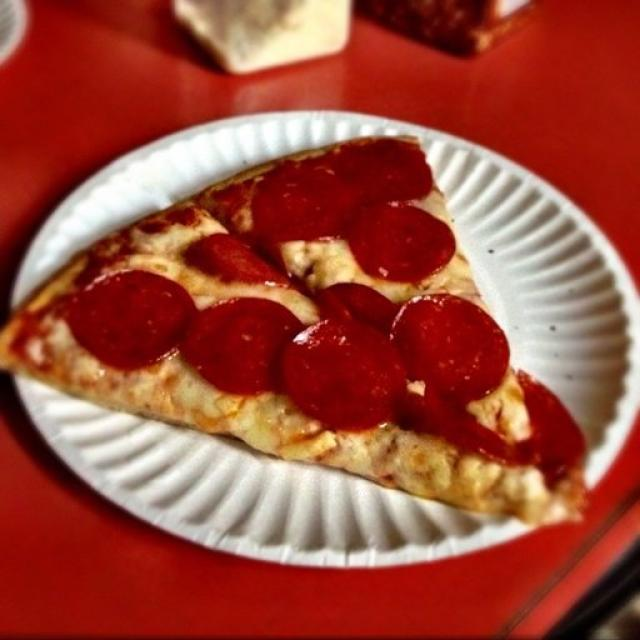Pepperoni: (178, 281, 320, 401), (380, 293, 510, 399), (279, 318, 405, 426), (71, 271, 201, 374), (348, 190, 457, 296), (242, 155, 362, 243), (308, 266, 424, 357), (399, 394, 524, 472), (314, 136, 444, 208), (192, 220, 300, 302), (513, 372, 582, 485)
Pizza: (0, 135, 546, 525)
